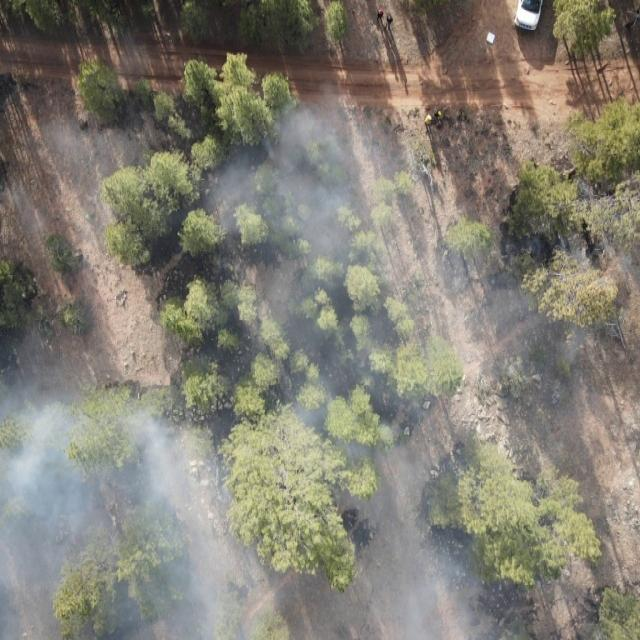smoke: (0, 324, 640, 640), (203, 142, 640, 324), (8, 128, 161, 274), (264, 80, 415, 142)
